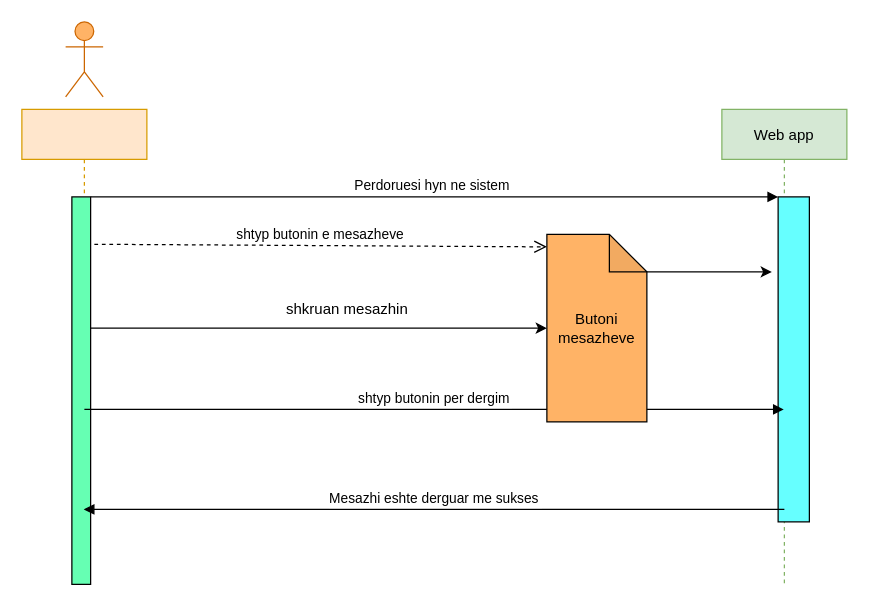
Some shapes in this 869 by 606 pixel diagram are drawn without their labels. The shapes that lost their labels are listed below. From the top down, each one's box as (x1, y1, x2, y2) in pixels, then its label:
(64, 21, 103, 97): Actor
(21, 108, 147, 584): Perdoruesi
